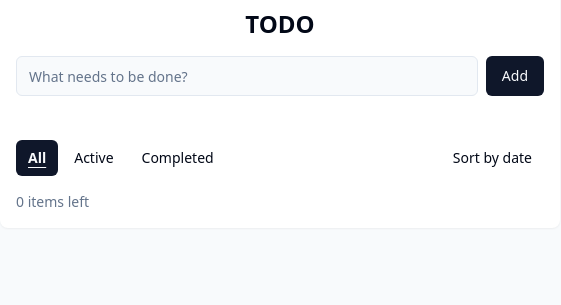
Test: A5 — accessible names › edit input exposes aria-label="Edit todo"
Type "task" into the field named "New todo". click: (247, 76)
box: [16,56,478,96]
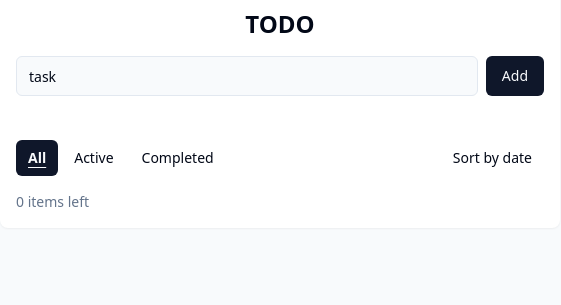
Submit the form named "New todo", box [16,56,544,96]
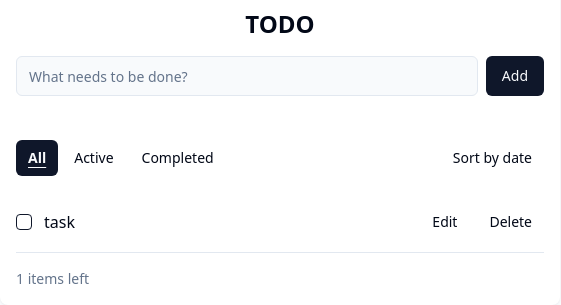
Now the text "task" is shown, box [44,211,75,233]
Click the button "Edit". click: click(445, 222)
box: [420,204,470,240]
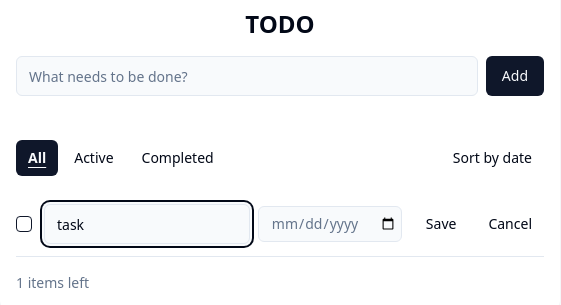
Now the field named "Edit todo" is shown, box [44,204,250,244]
